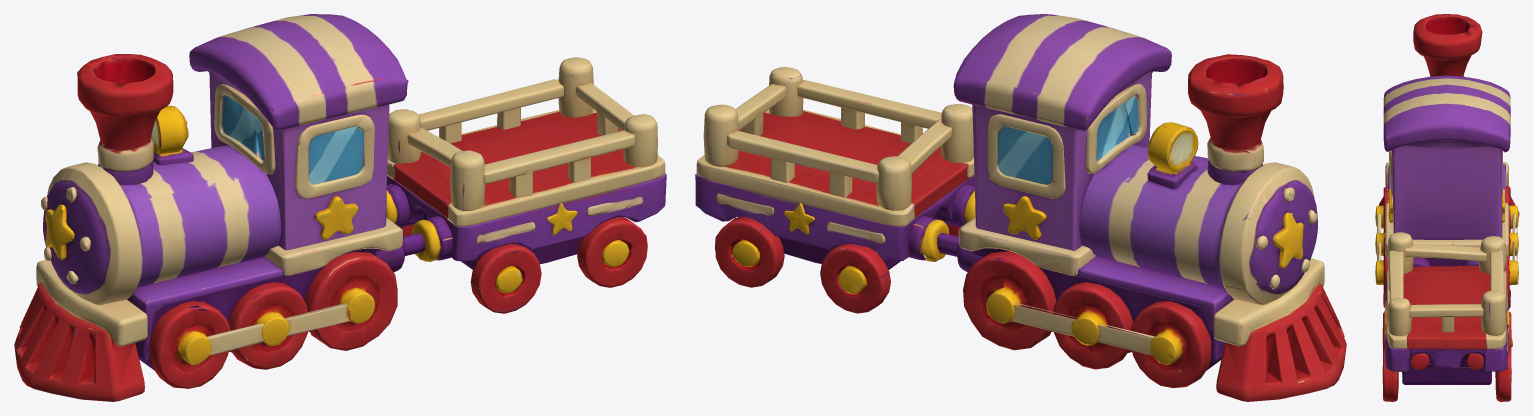
File: toy_train.glb
3 renders of one model, left to right at view 1: azimuth 30°, elevation 25°; view 2: azimuth 150°, elevation 25°; view 3: azimuth 270°, elevation 25°, orthographic. The views are drawn at different scales.
Size of what is drawn, in the model's own units: 2.14 by 1 by 0.6099.
1 material, 1 textured.
